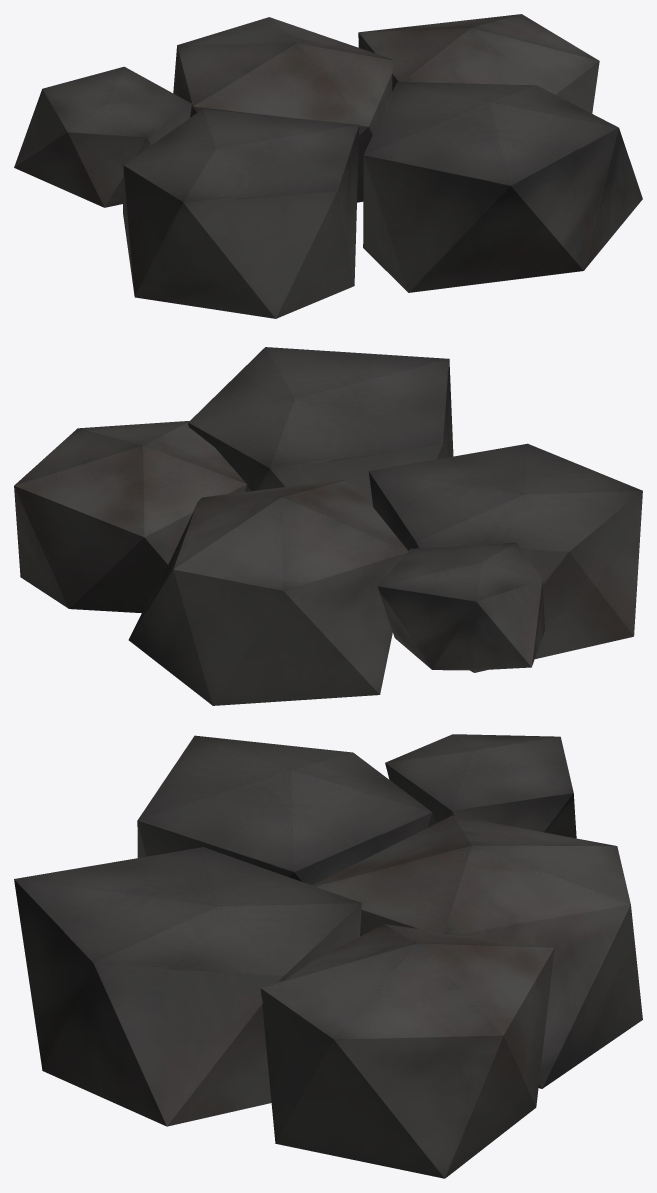
File: StonesInWater_Page3.fbx
3 views of the same model, one above another, from view 1: azimuth 30°, elevation 25°; view 2: azimuth 150°, elevation 25°; view 3: azimuth 270°, elevation 25° (orthographic). The views are drawn at different scales.
Visible parts, largest first — view 1: Big_Stone13.002; view 2: Big_Stone13.002; view 3: Big_Stone13.002.
Boxes of the visible parts, left/top/right/bottom form: Big_Stone13.002: left=14, top=14, right=642, bottom=318; Big_Stone13.002: left=14, top=347, right=642, bottom=705; Big_Stone13.002: left=14, top=734, right=642, bottom=1178.
Bounding box in the file's own units: 12.22 × 10.5 × 3.77.
